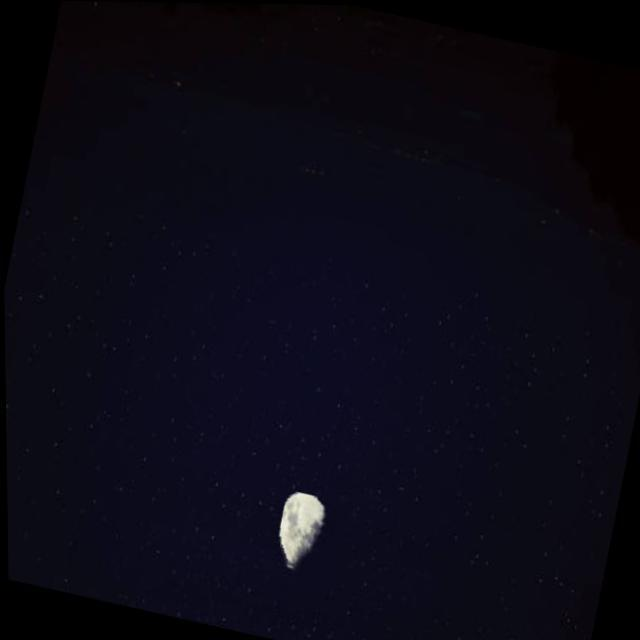moon: (269, 488, 347, 580)
